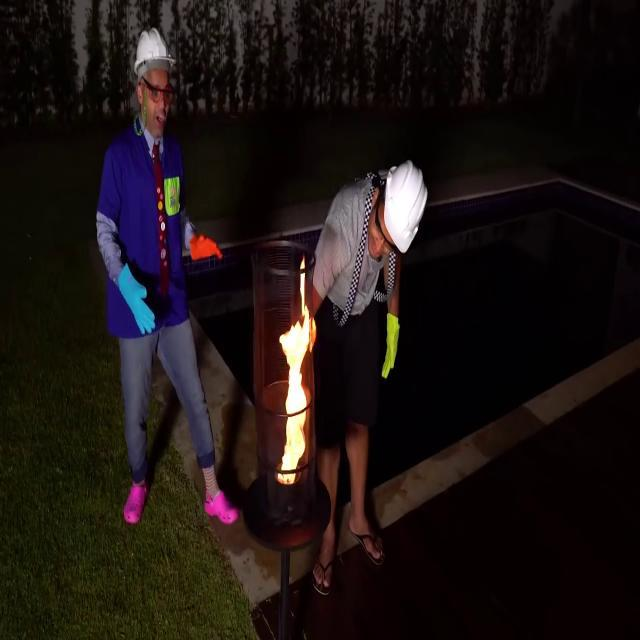Fire: (274, 270, 312, 478)
